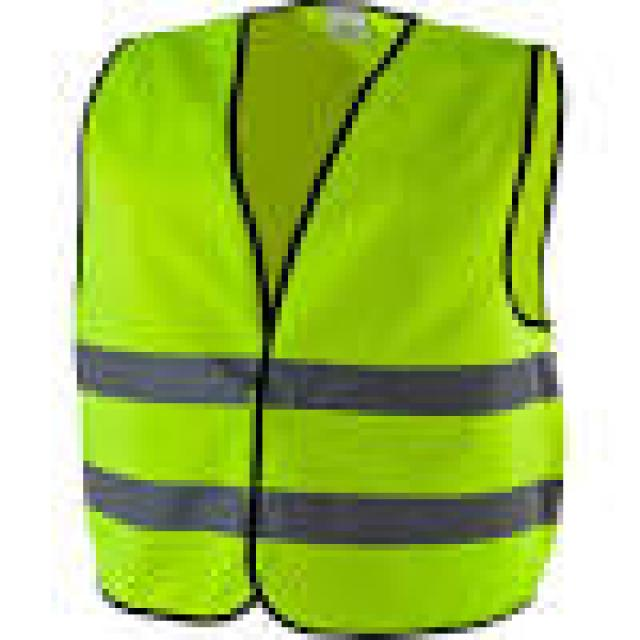Reflective-Jacket: (19, 6, 602, 640)
